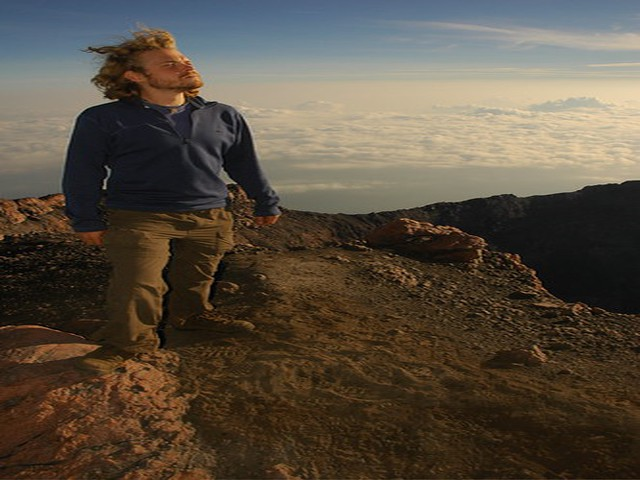Person: (64, 28, 264, 356)
